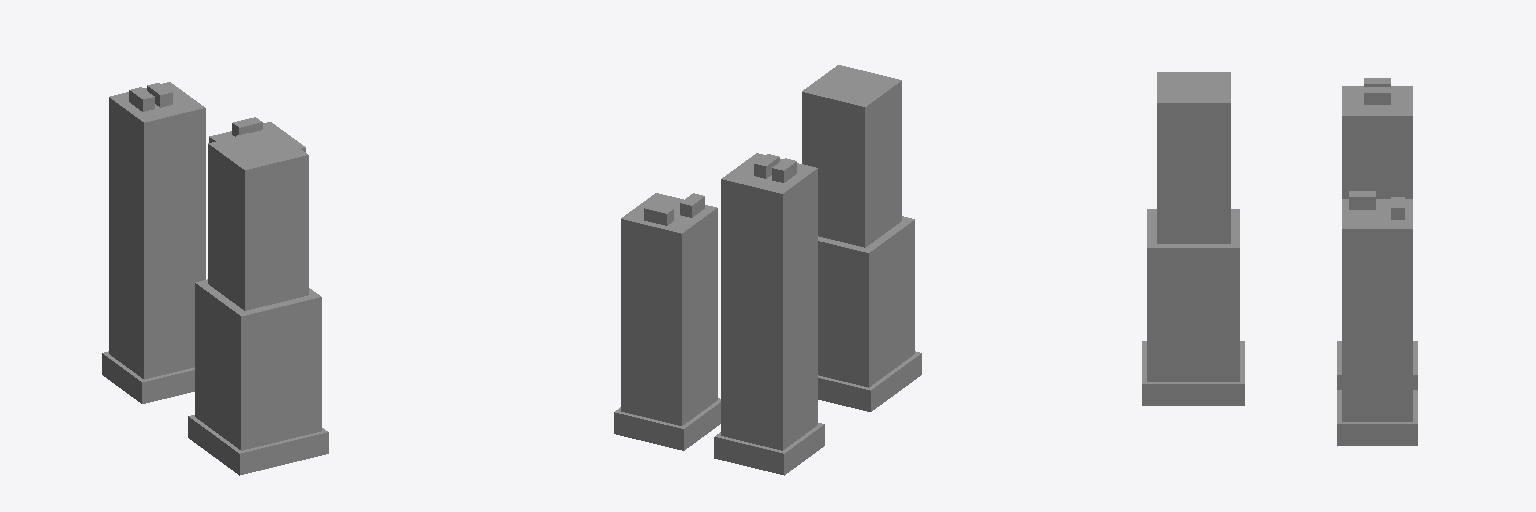
File: Skyscraper.obj
3 views of the same model, side by side, from view 1: azimuth 30°, elevation 25°; view 2: azimuth 150°, elevation 25°; view 3: azimuth 270°, elevation 25° (orthographic).
Parts seen in each view (by area): view 1: Skyscraper2_Cube.002, Skyscraper1_Cube, Skyscraper1Short_Cube.001; view 2: Skyscraper2_Cube.002, Skyscraper1_Cube, Skyscraper1Short_Cube.001; view 3: Skyscraper2_Cube.002, Skyscraper1Short_Cube.001, Skyscraper1_Cube.
Part boxes in pixels (bbox=[...]): Skyscraper2_Cube.002: bbox=[188, 128, 328, 475]; Skyscraper1_Cube: bbox=[102, 82, 205, 403]; Skyscraper1Short_Cube.001: bbox=[209, 117, 305, 151]; Skyscraper2_Cube.002: bbox=[802, 65, 921, 411]; Skyscraper1_Cube: bbox=[714, 153, 824, 475]; Skyscraper1Short_Cube.001: bbox=[614, 193, 720, 450]; Skyscraper2_Cube.002: bbox=[1142, 72, 1244, 405]; Skyscraper1Short_Cube.001: bbox=[1337, 191, 1417, 445]; Skyscraper1_Cube: bbox=[1337, 78, 1417, 389].
Size of the model in its own units: 55.48 by 92.28 by 77.58.